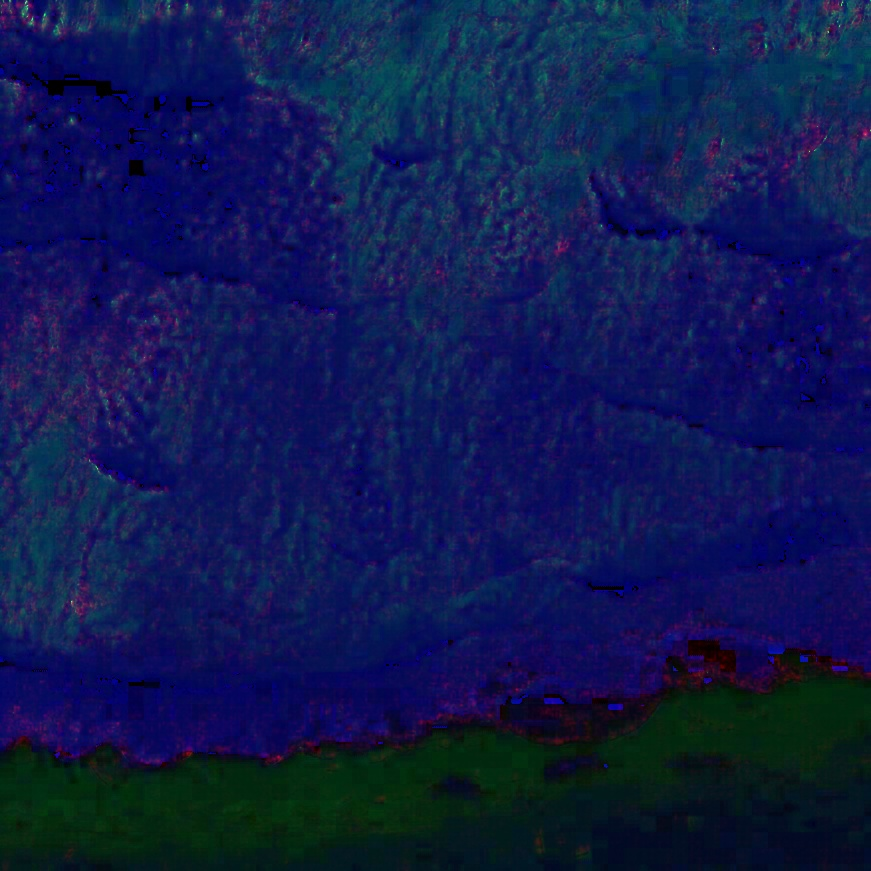rip_current: (233, 46, 629, 626)
